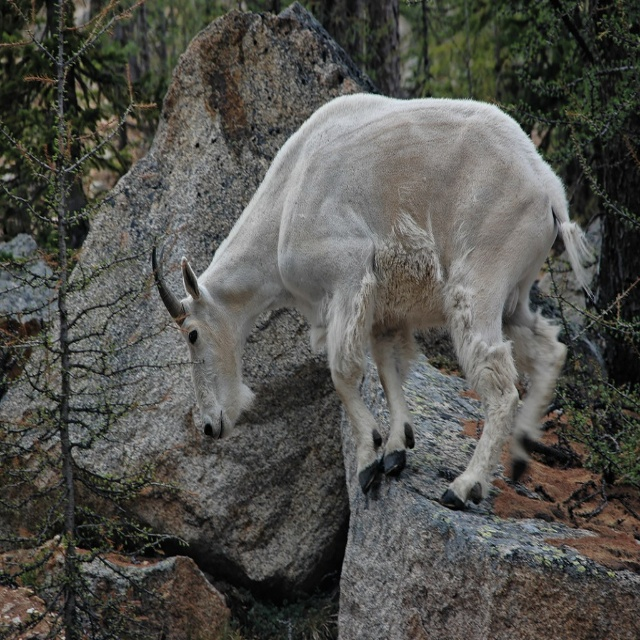Goat: (152, 91, 592, 515)
